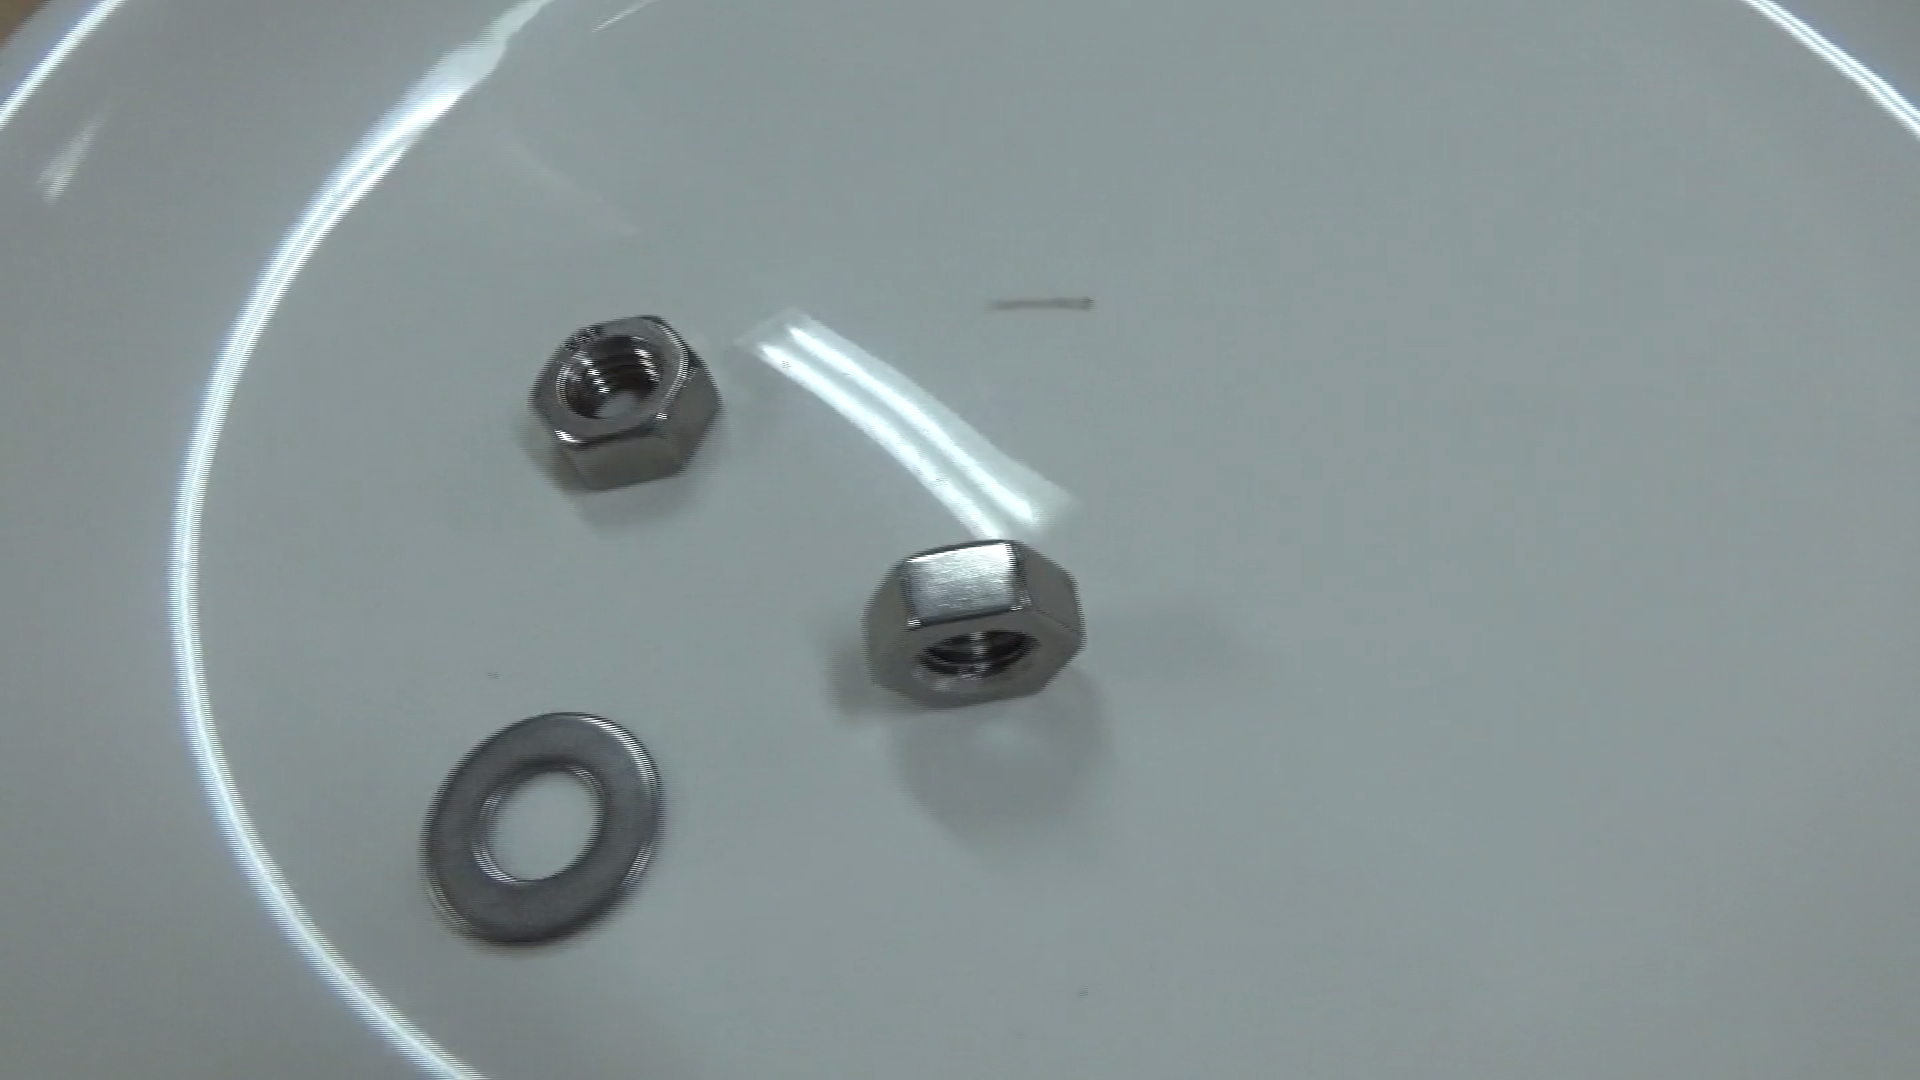nut: (836, 529, 1112, 716), (518, 302, 728, 504)
washer: (406, 692, 680, 959)
